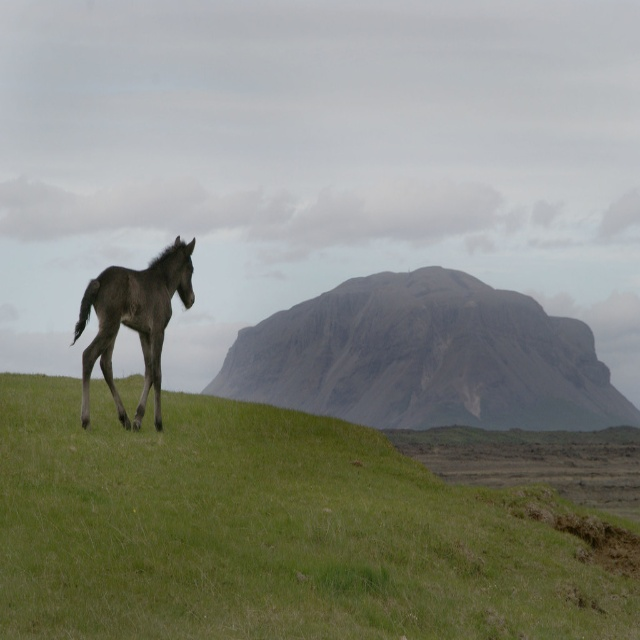Horse: (64, 239, 194, 437)
